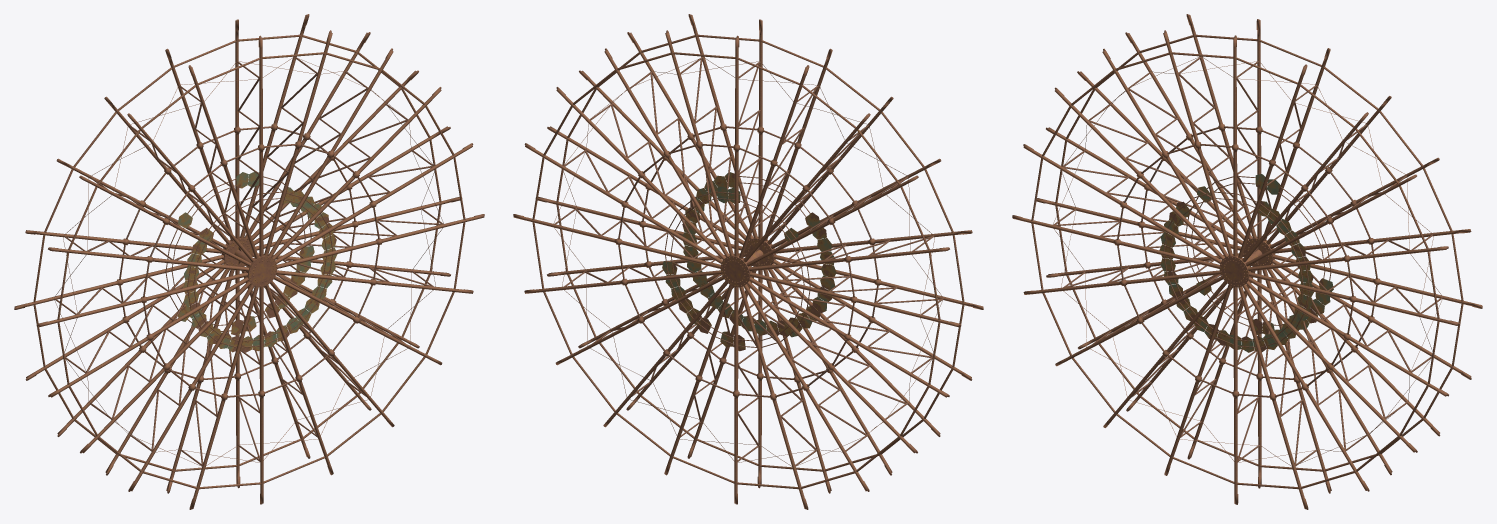
The model's file is ferris_wheel.obj.
3 views of the same model, side by side, from view 1: azimuth 30°, elevation 25°; view 2: azimuth 150°, elevation 25°; view 3: azimuth 330°, elevation 25° (orthographic).
Visible parts, largest first — view 1: Wheel_material_14, Wheel_material_15, Wheel_material_13, Wheel_material_10, Wheel_material_11; view 2: Wheel_material_14, Wheel_material_15, Wheel_material_13, Wheel_material_10, Wheel_material_11; view 3: Wheel_material_14, Wheel_material_15, Wheel_material_13, Wheel_material_10, Wheel_material_11.
Boxes of the visible parts, <box> form: Wheel_material_14: <box>14,14,484,509</box>; Wheel_material_15: <box>54,57,443,466</box>; Wheel_material_13: <box>33,34,465,489</box>; Wheel_material_10: <box>177,172,337,352</box>; Wheel_material_11: <box>221,237,277,287</box>; Wheel_material_14: <box>513,14,983,509</box>; Wheel_material_15: <box>553,57,943,466</box>; Wheel_material_13: <box>532,34,964,489</box>; Wheel_material_10: <box>662,172,836,351</box>; Wheel_material_11: <box>720,237,776,287</box>; Wheel_material_14: <box>1012,14,1482,509</box>; Wheel_material_15: <box>1053,57,1442,466</box>; Wheel_material_13: <box>1031,34,1463,489</box>; Wheel_material_10: <box>1159,174,1333,352</box>; Wheel_material_11: <box>1219,237,1275,287</box>.
Size of the model in its own units: 22.43 by 22.43 by 2.37.
6 materials, 6 textured.
